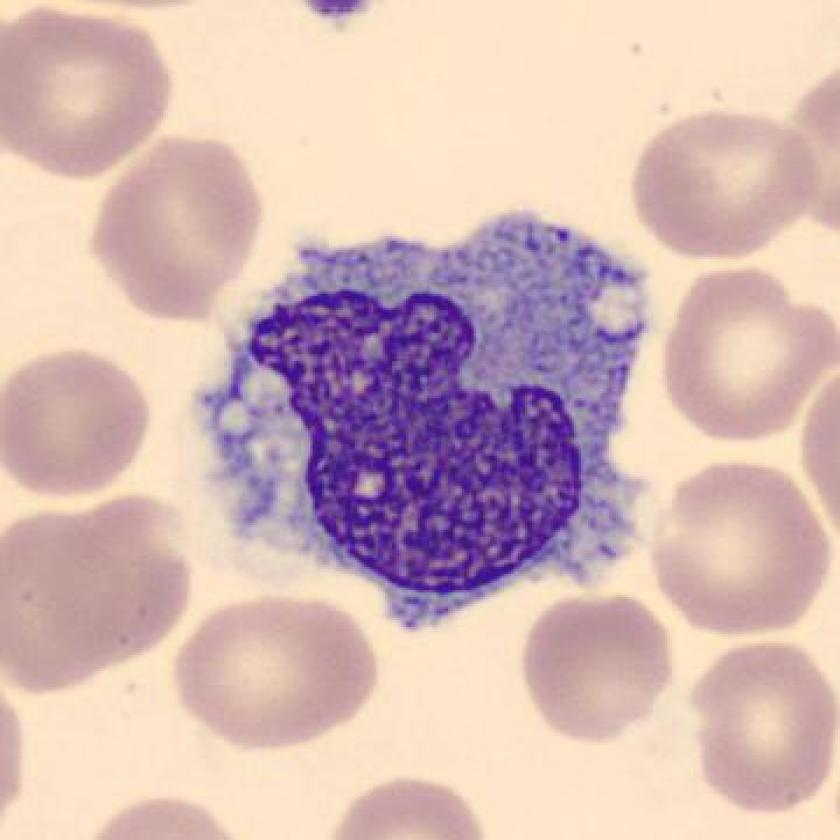monocyte: (190, 180, 682, 631)
